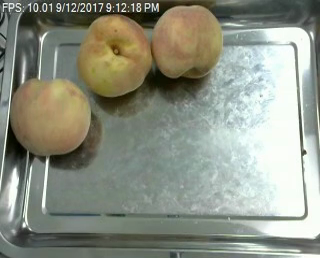Peach: (9, 76, 91, 157), (76, 13, 151, 96), (152, 4, 222, 80)
